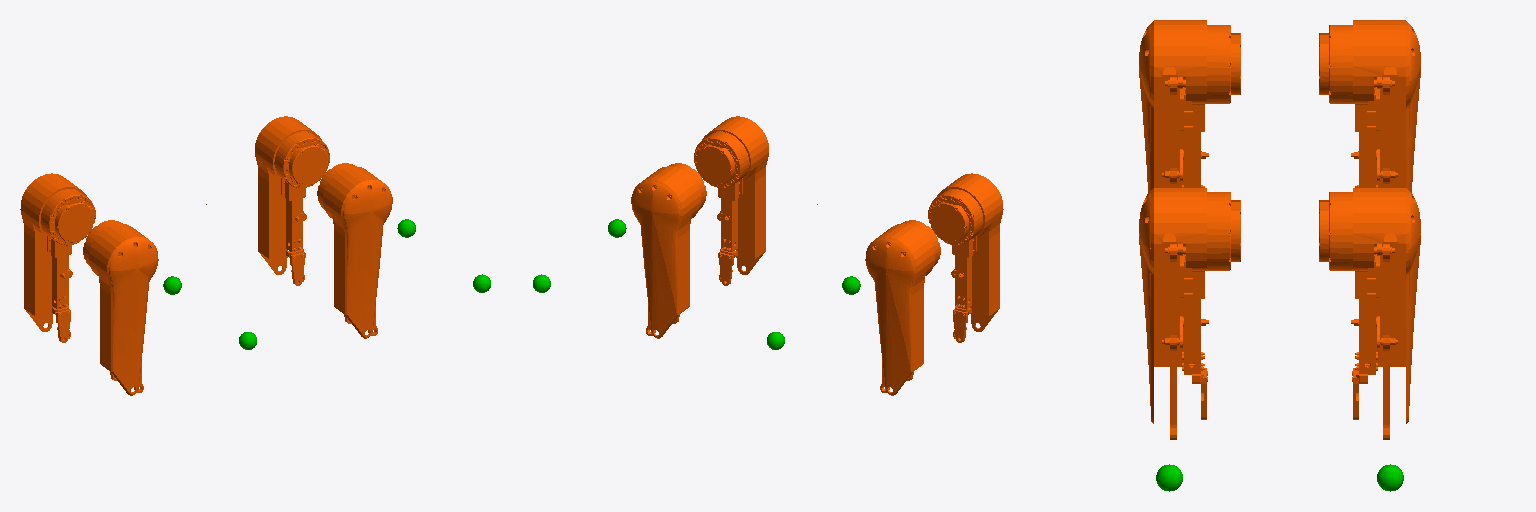
--- Render facts (derived) ---
3 views of the same robot in one strip: view 1: azimuth 30°, elevation 25°; view 2: azimuth 150°, elevation 25°; view 3: azimuth 270°, elevation 25° (orthographic).
Model aliengo_description with 19 links and 18 joints (12 revolute, 6 fixed), rooted at base, posed all joints at 0 but 4 set to mid-range because 0 is outside their limits (FR_calf_joint = -1.71, FL_calf_joint = -1.71, RR_calf_joint = -1.71, RL_calf_joint = -1.71).
Visible links, largest first — view 1: FR_thigh, RR_thigh, FL_thigh, RL_thigh; view 2: FL_thigh, RL_thigh, FR_thigh, RR_thigh; view 3: FR_thigh, FL_thigh, RR_thigh, RL_thigh, FR_foot, FL_foot.
Boxes of the visible links, x1=… form: FR_thigh: x1=317, y1=163, x2=392, y2=338; RR_thigh: x1=83, y1=220, x2=158, y2=395; FL_thigh: x1=255, y1=116, x2=329, y2=285; RL_thigh: x1=20, y1=173, x2=95, y2=342; FL_thigh: x1=631, y1=163, x2=706, y2=338; RL_thigh: x1=865, y1=220, x2=940, y2=395; FR_thigh: x1=694, y1=116, x2=768, y2=285; RR_thigh: x1=928, y1=173, x2=1003, y2=342; FR_thigh: x1=1139, y1=188, x2=1240, y2=439; FL_thigh: x1=1319, y1=188, x2=1420, y2=439; RR_thigh: x1=1139, y1=20, x2=1240, y2=192; RL_thigh: x1=1319, y1=20, x2=1420, y2=192; FR_foot: x1=1156, y1=464, x2=1182, y2=491; FL_foot: x1=1377, y1=464, x2=1403, y2=491.
Size in the robot's own frame: 0.7967 by 0.343 by 0.3193 metres.
Meshes: 5 distinct files referenced, 4 mesh visuals loaded (2 Collada DAE); not drawn: 9 (reference not matched to a file when rendering).

robot.urdf — aliengo_description:
<?xml version="1.0" encoding="utf-8"?>
<!-- =================================================================================== -->
<!-- |    This document was autogenerated by xacro from robot.xacro                    | -->
<!-- |    EDITING THIS FILE BY HAND IS NOT RECOMMENDED                                 | -->
<!-- =================================================================================== -->
<robot name="aliengo_description">
  <material name="black">
    <color rgba="0.0 0.0 0.0 1.0"/>
  </material>
  <material name="blue">
    <color rgba="0.0 0.0 0.8 1.0"/>
  </material>
  <material name="green">
    <color rgba="0.0 0.8 0.0 1.0"/>
  </material>
  <material name="grey">
    <color rgba="0.2 0.2 0.2 1.0"/>
  </material>
  <material name="silver">
    <color rgba="0.913725490196 0.913725490196 0.847058823529 1.0"/>
  </material>
  <material name="orange">
    <color rgba="1.0 0.423529411765 0.0392156862745 1.0"/>
  </material>
  <material name="brown">
    <color rgba="0.870588235294 0.811764705882 0.764705882353 1.0"/>
  </material>
  <material name="red">
    <color rgba="0.8 0.0 0.0 1.0"/>
  </material>
  <material name="white">
    <color rgba="1.0 1.0 1.0 1.0"/>
  </material>
  <link name="base">
    <visual>
      <origin rpy="0 0 0" xyz="0 0 0"/>
      <geometry>
        <box size="0.001 0.001 0.001"/>
      </geometry>
    </visual>
  </link>
  <joint name="floating_base" type="fixed">
    <origin rpy="0 0 0" xyz="0 0 0"/>
    <parent link="base"/>
    <child link="trunk"/>
  </joint>
  <link name="trunk">
    <visual>
      <origin rpy="0 0 0" xyz="0 0 0"/>
      <geometry>
        <mesh filename="../meshes/trunk.dae" scale="1 1 1"/>
      </geometry>
      <material name="orange"/>
    </visual>
    <collision>
      <origin rpy="0 0 0" xyz="0 0 0"/>
      <geometry>
        <box size="0.647 0.15 0.112"/>
      </geometry>
    </collision>
    <!-- <collision>
            <origin rpy="0 0 0" xyz="0 0 0"/>
            <geometry>
                <mesh filename="../meshes/trunk.dae" scale="1 1 1"/>
            </geometry>
        </collision> -->
    <inertial>
      <origin rpy="0 0 0" xyz="0.008465 0.004045 -0.000763"/>
      <mass value="9.041"/>
      <inertia ixx="0.033260231" ixy="-0.000451628" ixz="0.000487603" iyy="0.16117211" iyz="4.8356e-05" izz="0.17460442"/>
    </inertial>
  </link>
  <joint name="imu_joint" type="fixed">
    <parent link="trunk"/>
    <child link="imu_link"/>
    <origin rpy="0 0 0" xyz="0 0 0"/>
  </joint>
  <link name="imu_link">
    <inertial>
      <mass value="0.001"/>
      <origin rpy="0 0 0" xyz="0 0 0"/>
      <inertia ixx="0.0001" ixy="0" ixz="0" iyy="0.000001" iyz="0" izz="0.0001"/>
    </inertial>
    <visual>
      <origin rpy="0 0 0" xyz="0 0 0"/>
      <geometry>
        <box size="0.001 0.001 0.001"/>
      </geometry>
      <material name="red"/>
    </visual>
    <collision>
      <origin rpy="0 0 0" xyz="0 0 0"/>
      <geometry>
        <box size=".001 .001 .001"/>
      </geometry>
    </collision>
  </link>
  <joint name="FR_hip_joint" type="revolute">
    <origin rpy="0 0 0" xyz="0.2399 -0.051 0"/>
    <parent link="trunk"/>
    <child link="FR_hip"/>
    <axis xyz="1 0 0"/>
    <dynamics damping="0" friction="0"/>
    <limit effort="44" lower="-1.2217304764" upper="1.2217304764" velocity="20"/>
  </joint>
  <link name="FR_hip">
    <visual>
      <origin rpy="3.14159265359 0 0" xyz="0 0 0"/>
      <geometry>
        <mesh filename="../meshes/hip.dae" scale="1 1 1"/>
      </geometry>
      <material name="orange"/>
    </visual>
    <collision>
      <origin rpy="1.57079632679 0 0" xyz="0 -0.083 0"/>
      <geometry>
        <cylinder length="0.0418" radius="0.046"/>
      </geometry>
    </collision>
    <inertial>
      <origin rpy="0 0 0" xyz="-0.022191 -0.015144 -1.5e-05"/>
      <mass value="1.993"/>
      <inertia ixx="0.002903894" ixy="7.185e-05" ixz="-1.262e-06" iyy="0.004907517" iyz="1.75e-06" izz="0.005586944"/>
    </inertial>
  </link>
  <!-- <joint name="${name}_hip_fixed" type="fixed">
            <origin rpy="0 0 0" xyz="0 ${(thigh_shoulder_length/2.0+hip_offset)*mirror} 0"/>
            <parent link="${name}_hip"/>
            <child link="${name}_thigh_shoulder"/>
        </joint> -->
  <!-- this link is only for collision -->
  <!-- <link name="${name}_thigh_shoulder">
            <collision>
                <origin rpy="${PI/2.0} 0 0" xyz="0 0 0"/>
                <geometry>
                    <cylinder length="${thigh_shoulder_length}" radius="${thigh_shoulder_radius}"/>
                </geometry>
            </collision>
        </link> -->
  <joint name="FR_thigh_joint" type="revolute">
    <origin rpy="0 0 0" xyz="0 -0.083 0"/>
    <parent link="FR_hip"/>
    <child link="FR_thigh"/>
    <axis xyz="0 1 0"/>
    <dynamics damping="0" friction="0"/>
    <limit effort="44" lower="-1.0471975512" upper="4.18879020479" velocity="20"/>
  </joint>
  <link name="FR_thigh">
    <visual>
      <origin rpy="0 0 0" xyz="0 0 0"/>
      <geometry>
        <mesh filename="../meshes/thigh_mirror.dae" scale="1 1 1"/>
      </geometry>
      <material name="orange"/>
    </visual>
    <collision>
      <origin rpy="0 1.57079632679 0" xyz="0 0 -0.125"/>
      <geometry>
        <box size="0.25 0.0374 0.043"/>
      </geometry>
    </collision>
    <inertial>
      <origin rpy="0 0 0" xyz="-0.005607 0.003877 -0.048199"/>
      <mass value="0.639"/>
      <inertia ixx="0.005666803" ixy="-3.597e-06" ixz="0.000491446" iyy="0.005847229" iyz="-1.0086e-05" izz="0.000369811"/>
    </inertial>
  </link>
  <joint name="FR_calf_joint" type="revolute">
    <origin rpy="0 0 0" xyz="0 0 -0.25"/>
    <parent link="FR_thigh"/>
    <child link="FR_calf"/>
    <axis xyz="0 1 0"/>
    <dynamics damping="0" friction="0"/>
    <limit effort="55" lower="-2.77507351067" upper="-0.645771823238" velocity="16"/>
  </joint>
  <link name="FR_calf">
    <visual>
      <origin rpy="0 0 0" xyz="0 0 0"/>
      <geometry>
        <mesh filename="../meshes/calf.dae" scale="1 1 1"/>
      </geometry>
      <material name="orange"/>
    </visual>
    <collision>
      <origin rpy="0 1.57079632679 0" xyz="0 0 -0.125"/>
      <geometry>
        <box size="0.25 0.0208 0.016"/>
      </geometry>
    </collision>
    <inertial>
      <origin rpy="0 0 0" xyz="0.002781 6.3e-05 -0.142518"/>
      <mass value="0.207"/>
      <inertia ixx="0.006341369" ixy="-3e-09" ixz="-8.7951e-05" iyy="0.006355157" iyz="-1.336e-06" izz="3.9188e-05"/>
    </inertial>
  </link>
  <joint name="FR_foot_fixed" type="fixed" dont_collapse="true">
    <origin rpy="0 0 0" xyz="0 0 -0.25"/>
    <parent link="FR_calf"/>
    <child link="FR_foot"/>
  </joint>
  <link name="FR_foot">
    <visual>
      <origin rpy="0 0 0" xyz="0 0 0"/>
      <geometry>
        <sphere radius="0.0165"/>
      </geometry>
      <material name="green"/>
    </visual>
    <collision>
      <origin rpy="0 0 0" xyz="0 0 0"/>
      <geometry>
        <sphere radius="0.0265"/>
      </geometry>
    </collision>
    <inertial>
      <mass value="0.06"/>
      <inertia ixx="1.6854e-05" ixy="0.0" ixz="0.0" iyy="1.6854e-05" iyz="0.0" izz="1.6854e-05"/>
    </inertial>
  </link>
  <transmission name="FR_hip_tran">
    <type>transmission_interface/SimpleTransmission</type>
    <joint name="FR_hip_joint">
      <hardwareInterface>hardware_interface/EffortJointInterface</hardwareInterface>
    </joint>
    <actuator name="FR_hip_motor">
      <hardwareInterface>hardware_interface/EffortJointInterface</hardwareInterface>
      <mechanicalReduction>1</mechanicalReduction>
    </actuator>
  </transmission>
  <transmission name="FR_thigh_tran">
    <type>transmission_interface/SimpleTransmission</type>
    <joint name="FR_thigh_joint">
      <hardwareInterface>hardware_interface/EffortJointInterface</hardwareInterface>
    </joint>
    <actuator name="FR_thigh_motor">
      <hardwareInterface>hardware_interface/EffortJointInterface</hardwareInterface>
      <mechanicalReduction>1</mechanicalReduction>
    </actuator>
  </transmission>
  <transmission name="FR_calf_tran">
    <type>transmission_interface/SimpleTransmission</type>
    <joint name="FR_calf_joint">
      <hardwareInterface>hardware_interface/EffortJointInterface</hardwareInterface>
    </joint>
    <actuator name="FR_calf_motor">
      <hardwareInterface>hardware_interface/EffortJointInterface</hardwareInterface>
      <mechanicalReduction>1</mechanicalReduction>
    </actuator>
  </transmission>
  <joint name="FL_hip_joint" type="revolute">
    <origin rpy="0 0 0" xyz="0.2399 0.051 0"/>
    <parent link="trunk"/>
    <child link="FL_hip"/>
    <axis xyz="1 0 0"/>
    <dynamics damping="0" friction="0"/>
    <limit effort="44" lower="-1.2217304764" upper="1.2217304764" velocity="20"/>
  </joint>
  <link name="FL_hip">
    <visual>
      <origin rpy="0 0 0" xyz="0 0 0"/>
      <geometry>
        <mesh filename="../meshes/hip.dae" scale="1 1 1"/>
      </geometry>
      <material name="orange"/>
    </visual>
    <collision>
      <origin rpy="1.57079632679 0 0" xyz="0 0.083 0"/>
      <geometry>
        <cylinder length="0.0418" radius="0.046"/>
      </geometry>
    </collision>
    <inertial>
      <origin rpy="0 0 0" xyz="-0.022191 0.015144 -1.5e-05"/>
      <mass value="1.993"/>
      <inertia ixx="0.002903894" ixy="-7.185e-05" ixz="-1.262e-06" iyy="0.004907517" iyz="-1.75e-06" izz="0.005586944"/>
    </inertial>
  </link>
  <!-- <joint name="${name}_hip_fixed" type="fixed">
            <origin rpy="0 0 0" xyz="0 ${(thigh_shoulder_length/2.0+hip_offset)*mirror} 0"/>
            <parent link="${name}_hip"/>
            <child link="${name}_thigh_shoulder"/>
        </joint> -->
  <!-- this link is only for collision -->
  <!-- <link name="${name}_thigh_shoulder">
            <collision>
                <origin rpy="${PI/2.0} 0 0" xyz="0 0 0"/>
                <geometry>
                    <cylinder length="${thigh_shoulder_length}" radius="${thigh_shoulder_radius}"/>
                </geometry>
            </collision>
        </link> -->
  <joint name="FL_thigh_joint" type="revolute">
    <origin rpy="0 0 0" xyz="0 0.083 0"/>
    <parent link="FL_hip"/>
    <child link="FL_thigh"/>
    <axis xyz="0 1 0"/>
    <dynamics damping="0" friction="0"/>
    <limit effort="44" lower="-1.0471975512" upper="4.18879020479" velocity="20"/>
  </joint>
  <link name="FL_thigh">
    <visual>
      <origin rpy="0 0 0" xyz="0 0 0"/>
      <geometry>
        <mesh filename="../meshes/thigh.dae" scale="1 1 1"/>
      </geometry>
      <material name="orange"/>
    </visual>
    <collision>
      <origin rpy="0 1.57079632679 0" xyz="0 0 -0.125"/>
      <geometry>
        <box size="0.25 0.0374 0.043"/>
      </geometry>
    </collision>
    <inertial>
      <origin rpy="0 0 0" xyz="-0.005607 -0.003877 -0.048199"/>
      <mass value="0.639"/>
      <inertia ixx="0.005666803" ixy="3.597e-06" ixz="0.000491446" iyy="0.005847229" iyz="1.0086e-05" izz="0.000369811"/>
    </inertial>
  </link>
  <joint name="FL_calf_joint" type="revolute">
    <origin rpy="0 0 0" xyz="0 0 -0.25"/>
    <parent link="FL_thigh"/>
    <child link="FL_calf"/>
    <axis xyz="0 1 0"/>
    <dynamics damping="0" friction="0"/>
    <limit effort="55" lower="-2.77507351067" upper="-0.645771823238" velocity="16"/>
  </joint>
  <link name="FL_calf">
    <visual>
      <origin rpy="0 0 0" xyz="0 0 0"/>
      <geometry>
        <mesh filename="../meshes/calf.dae" scale="1 1 1"/>
      </geometry>
      <material name="orange"/>
    </visual>
    <collision>
      <origin rpy="0 1.57079632679 0" xyz="0 0 -0.125"/>
      <geometry>
        <box size="0.25 0.0208 0.016"/>
      </geometry>
    </collision>
    <inertial>
      <origin rpy="0 0 0" xyz="0.002781 6.3e-05 -0.142518"/>
      <mass value="0.207"/>
      <inertia ixx="0.006341369" ixy="-3e-09" ixz="-8.7951e-05" iyy="0.006355157" iyz="-1.336e-06" izz="3.9188e-05"/>
    </inertial>
  </link>
  <joint name="FL_foot_fixed" type="fixed" dont_collapse="true">
    <origin rpy="0 0 0" xyz="0 0 -0.25"/>
    <parent link="FL_calf"/>
    <child link="FL_foot"/>
  </joint>
  <link name="FL_foot">
    <visual>
      <origin rpy="0 0 0" xyz="0 0 0"/>
      <geometry>
        <sphere radius="0.0165"/>
      </geometry>
      <material name="green"/>
    </visual>
    <collision>
      <origin rpy="0 0 0" xyz="0 0 0"/>
      <geometry>
        <sphere radius="0.0265"/>
      </geometry>
    </collision>
    <inertial>
      <mass value="0.06"/>
      <inertia ixx="1.6854e-05" ixy="0.0" ixz="0.0" iyy="1.6854e-05" iyz="0.0" izz="1.6854e-05"/>
    </inertial>
  </link>
  <transmission name="FL_hip_tran">
    <type>transmission_interface/SimpleTransmission</type>
    <joint name="FL_hip_joint">
      <hardwareInterface>hardware_interface/EffortJointInterface</hardwareInterface>
    </joint>
    <actuator name="FL_hip_motor">
      <hardwareInterface>hardware_interface/EffortJointInterface</hardwareInterface>
      <mechanicalReduction>1</mechanicalReduction>
    </actuator>
  </transmission>
  <transmission name="FL_thigh_tran">
    <type>transmission_interface/SimpleTransmission</type>
    <joint name="FL_thigh_joint">
      <hardwareInterface>hardware_interface/EffortJointInterface</hardwareInterface>
    </joint>
    <actuator name="FL_thigh_motor">
      <hardwareInterface>hardware_interface/EffortJointInterface</hardwareInterface>
      <mechanicalReduction>1</mechanicalReduction>
    </actuator>
  </transmission>
  <transmission name="FL_calf_tran">
    <type>transmission_interface/SimpleTransmission</type>
    <joint name="FL_calf_joint">
      <hardwareInterface>hardware_interface/EffortJointInterface</hardwareInterface>
    </joint>
    <actuator name="FL_calf_motor">
      <hardwareInterface>hardware_interface/EffortJointInterface</hardwareInterface>
      <mechanicalReduction>1</mechanicalReduction>
    </actuator>
  </transmission>
  <joint name="RR_hip_joint" type="revolute">
    <origin rpy="0 0 0" xyz="-0.2399 -0.051 0"/>
    <parent link="trunk"/>
    <child link="RR_hip"/>
    <axis xyz="1 0 0"/>
    <dynamics damping="0" friction="0"/>
    <limit effort="44" lower="-1.2217304764" upper="1.2217304764" velocity="20"/>
  </joint>
  <link name="RR_hip">
    <visual>
      <origin rpy="3.14159265359 3.14159265359 0" xyz="0 0 0"/>
      <geometry>
        <mesh filename="../meshes/hip.dae" scale="1 1 1"/>
      </geometry>
      <material name="orange"/>
    </visual>
    <collision>
      <origin rpy="1.57079632679 0 0" xyz="0 -0.083 0"/>
      <geometry>
        <cylinder length="0.0418" radius="0.046"/>
      </geometry>
    </collision>
    <inertial>
      <origin rpy="0 0 0" xyz="0.022191 -0.015144 -1.5e-05"/>
      <mass value="1.993"/>
      <inertia ixx="0.002903894" ixy="-7.185e-05" ixz="1.262e-06" iyy="0.004907517" iyz="1.75e-06" izz="0.005586944"/>
    </inertial>
  </link>
  <!-- <joint name="${name}_hip_fixed" type="fixed">
            <origin rpy="0 0 0" xyz="0 ${(thigh_shoulder_length/2.0+hip_offset)*mirror} 0"/>
            <parent link="${name}_hip"/>
            <child link="${name}_thigh_shoulder"/>
        </joint> -->
  <!-- this link is only for collision -->
  <!-- <link name="${name}_thigh_shoulder">
            <collision>
                <origin rpy="${PI/2.0} 0 0" xyz="0 0 0"/>
                <geometry>
                    <cylinder length="${thigh_shoulder_length}" radius="${thigh_shoulder_radius}"/>
                </geometry>
            </collision>
        </link> -->
  <joint name="RR_thigh_joint" type="revolute">
    <origin rpy="0 0 0" xyz="0 -0.083 0"/>
    <parent link="RR_hip"/>
    <child link="RR_thigh"/>
    <axis xyz="0 1 0"/>
    <dynamics damping="0" friction="0"/>
    <limit effort="44" lower="-1.0471975512" upper="4.18879020479" velocity="20"/>
  </joint>
  <link name="RR_thigh">
    <visual>
      <origin rpy="0 0 0" xyz="0 0 0"/>
      <geometry>
        <mesh filename="../meshes/thigh_mirror.dae" scale="1 1 1"/>
      </geometry>
      <material name="orange"/>
    </visual>
    <collision>
      <origin rpy="0 1.57079632679 0" xyz="0 0 -0.125"/>
      <geometry>
        <box size="0.25 0.0374 0.043"/>
      </geometry>
    </collision>
    <inertial>
      <origin rpy="0 0 0" xyz="-0.005607 0.003877 -0.048199"/>
      <mass value="0.639"/>
      <inertia ixx="0.005666803" ixy="-3.597e-06" ixz="0.000491446" iyy="0.005847229" iyz="-1.0086e-05" izz="0.000369811"/>
    </inertial>
  </link>
  <joint name="RR_calf_joint" type="revolute">
    <origin rpy="0 0 0" xyz="0 0 -0.25"/>
    <parent link="RR_thigh"/>
    <child link="RR_calf"/>
    <axis xyz="0 1 0"/>
    <dynamics damping="0" friction="0"/>
    <limit effort="55" lower="-2.77507351067" upper="-0.645771823238" velocity="16"/>
  </joint>
  <link name="RR_calf">
    <visual>
      <origin rpy="0 0 0" xyz="0 0 0"/>
      <geometry>
        <mesh filename="../meshes/calf.dae" scale="1 1 1"/>
      </geometry>
      <material name="orange"/>
    </visual>
    <collision>
      <origin rpy="0 1.57079632679 0" xyz="0 0 -0.125"/>
      <geometry>
        <box size="0.25 0.0208 0.016"/>
      </geometry>
    </collision>
    <inertial>
      <origin rpy="0 0 0" xyz="0.002781 6.3e-05 -0.142518"/>
      <mass value="0.207"/>
      <inertia ixx="0.006341369" ixy="-3e-09" ixz="-8.7951e-05" iyy="0.006355157" iyz="-1.336e-06" izz="3.9188e-05"/>
    </inertial>
  </link>
  <joint name="RR_foot_fixed" type="fixed" dont_collapse="true">
    <origin rpy="0 0 0" xyz="0 0 -0.25"/>
    <parent link="RR_calf"/>
    <child link="RR_foot"/>
  </joint>
  <link name="RR_foot">
    <visual>
      <origin rpy="0 0 0" xyz="0 0 0"/>
      <geometry>
        <sphere radius="0.0165"/>
      </geometry>
      <material name="green"/>
    </visual>
    <collision>
      <origin rpy="0 0 0" xyz="0 0 0"/>
      <geometry>
        <sphere radius="0.0265"/>
      </geometry>
    </collision>
    <inertial>
      <mass value="0.06"/>
      <inertia ixx="1.6854e-05" ixy="0.0" ixz="0.0" iyy="1.6854e-05" iyz="0.0" izz="1.6854e-05"/>
    </inertial>
  </link>
  <transmission name="RR_hip_tran">
    <type>transmission_interface/SimpleTransmission</type>
    <joint name="RR_hip_joint">
      <hardwareInterface>hardware_interface/EffortJointInterface</hardwareInterface>
    </joint>
    <actuator name="RR_hip_motor">
      <hardwareInterface>hardware_interface/EffortJointInterface</hardwareInterface>
      <mechanicalReduction>1</mechanicalReduction>
    </actuator>
  </transmission>
  <transmission name="RR_thigh_tran">
    <type>transmission_interface/SimpleTransmission</type>
    <joint name="RR_thigh_joint">
      <hardwareInterface>hardware_interface/EffortJointInterface</hardwareInterface>
    </joint>
    <actuator name="RR_thigh_motor">
      <hardwareInterface>hardware_interface/EffortJointInterface</hardwareInterface>
      <mechanicalReduction>1</mechanicalReduction>
    </actuator>
  </transmission>
  <transmission name="RR_calf_tran">
    <type>transmission_interface/SimpleTransmission</type>
    <joint name="RR_calf_joint">
      <hardwareInterface>hardware_interface/EffortJointInterface</hardwareInterface>
    </joint>
    <actuator name="RR_calf_motor">
      <hardwareInterface>hardware_interface/EffortJointInterface</hardwareInterface>
      <mechanicalReduction>1</mechanicalReduction>
    </actuator>
  </transmission>
  <joint name="RL_hip_joint" type="revolute">
    <origin rpy="0 0 0" xyz="-0.2399 0.051 0"/>
    <parent link="trunk"/>
    <child link="RL_hip"/>
    <axis xyz="1 0 0"/>
    <dynamics damping="0" friction="0"/>
    <limit effort="44" lower="-1.2217304764" upper="1.2217304764" velocity="20"/>
  </joint>
  <link name="RL_hip">
    <visual>
      <origin rpy="0 3.14159265359 0" xyz="0 0 0"/>
      <geometry>
        <mesh filename="../meshes/hip.dae" scale="1 1 1"/>
      </geometry>
      <material name="orange"/>
    </visual>
    <collision>
      <origin rpy="1.57079632679 0 0" xyz="0 0.083 0"/>
      <geometry>
        <cylinder length="0.0418" radius="0.046"/>
      </geometry>
    </collision>
    <inertial>
      <origin rpy="0 0 0" xyz="0.022191 0.015144 -1.5e-05"/>
      <mass value="1.993"/>
      <inertia ixx="0.002903894" ixy="7.185e-05" ixz="1.262e-06" iyy="0.004907517" iyz="-1.75e-06" izz="0.005586944"/>
    </inertial>
  </link>
  <!-- <joint name="${name}_hip_fixed" type="fixed">
            <origin rpy="0 0 0" xyz="0 ${(thigh_shoulder_length/2.0+hip_offset)*mirror} 0"/>
            <parent link="${name}_hip"/>
            <child link="${name}_thigh_shoulder"/>
        </joint> -->
  <!-- this link is only for collision -->
  <!-- <link name="${name}_thigh_shoulder">
            <collision>
                <origin rpy="${PI/2.0} 0 0" xyz="0 0 0"/>
                <geometry>
                    <cylinder length="${thigh_shoulder_length}" radius="${thigh_shoulder_radius}"/>
                </geometry>
            </collision>
        </link> -->
  <joint name="RL_thigh_joint" type="revolute">
    <origin rpy="0 0 0" xyz="0 0.083 0"/>
    <parent link="RL_hip"/>
    <child link="RL_thigh"/>
    <axis xyz="0 1 0"/>
    <dynamics damping="0" friction="0"/>
    <limit effort="44" lower="-1.0471975512" upper="4.18879020479" velocity="20"/>
  </joint>
  <link name="RL_thigh">
    <visual>
      <origin rpy="0 0 0" xyz="0 0 0"/>
      <geometry>
        <mesh filename="../meshes/thigh.dae" scale="1 1 1"/>
      </geometry>
      <material name="orange"/>
    </visual>
    <collision>
      <origin rpy="0 1.57079632679 0" xyz="0 0 -0.125"/>
      <geometry>
        <box size="0.25 0.0374 0.043"/>
      </geometry>
    </collision>
    <inertial>
      <origin rpy="0 0 0" xyz="-0.005607 -0.003877 -0.048199"/>
      <mass value="0.639"/>
      <inertia ixx="0.005666803" ixy="3.597e-06" ixz="0.000491446" iyy="0.005847229" iyz="1.0086e-05" izz="0.000369811"/>
    </inertial>
  </link>
  <joint name="RL_calf_joint" type="revolute">
    <origin rpy="0 0 0" xyz="0 0 -0.25"/>
    <parent link="RL_thigh"/>
    <child link="RL_calf"/>
    <axis xyz="0 1 0"/>
    <dynamics damping="0" friction="0"/>
    <limit effort="55" lower="-2.77507351067" upper="-0.645771823238" velocity="16"/>
  </joint>
  <link name="RL_calf">
    <visual>
      <origin rpy="0 0 0" xyz="0 0 0"/>
      <geometry>
        <mesh filename="../meshes/calf.dae" scale="1 1 1"/>
      </geometry>
      <material name="orange"/>
    </visual>
    <collision>
      <origin rpy="0 1.57079632679 0" xyz="0 0 -0.125"/>
      <geometry>
        <box size="0.25 0.0208 0.016"/>
      </geometry>
    </collision>
    <inertial>
      <origin rpy="0 0 0" xyz="0.002781 6.3e-05 -0.142518"/>
      <mass value="0.207"/>
      <inertia ixx="0.006341369" ixy="-3e-09" ixz="-8.7951e-05" iyy="0.006355157" iyz="-1.336e-06" izz="3.9188e-05"/>
    </inertial>
  </link>
  <joint name="RL_foot_fixed" type="fixed" dont_collapse="true">
    <origin rpy="0 0 0" xyz="0 0 -0.25"/>
    <parent link="RL_calf"/>
    <child link="RL_foot"/>
  </joint>
  <link name="RL_foot">
    <visual>
      <origin rpy="0 0 0" xyz="0 0 0"/>
      <geometry>
        <sphere radius="0.0165"/>
      </geometry>
      <material name="green"/>
    </visual>
    <collision>
      <origin rpy="0 0 0" xyz="0 0 0"/>
      <geometry>
        <sphere radius="0.0265"/>
      </geometry>
    </collision>
    <inertial>
      <mass value="0.06"/>
      <inertia ixx="1.6854e-05" ixy="0.0" ixz="0.0" iyy="1.6854e-05" iyz="0.0" izz="1.6854e-05"/>
    </inertial>
  </link>
  <transmission name="RL_hip_tran">
    <type>transmission_interface/SimpleTransmission</type>
    <joint name="RL_hip_joint">
      <hardwareInterface>hardware_interface/EffortJointInterface</hardwareInterface>
    </joint>
    <actuator name="RL_hip_motor">
      <hardwareInterface>hardware_interface/EffortJointInterface</hardwareInterface>
      <mechanicalReduction>1</mechanicalReduction>
    </actuator>
  </transmission>
  <transmission name="RL_thigh_tran">
    <type>transmission_interface/SimpleTransmission</type>
    <joint name="RL_thigh_joint">
      <hardwareInterface>hardware_interface/EffortJointInterface</hardwareInterface>
    </joint>
    <actuator name="RL_thigh_motor">
      <hardwareInterface>hardware_interface/EffortJointInterface</hardwareInterface>
      <mechanicalReduction>1</mechanicalReduction>
    </actuator>
  </transmission>
  <transmission name="RL_calf_tran">
    <type>transmission_interface/SimpleTransmission</type>
    <joint name="RL_calf_joint">
      <hardwareInterface>hardware_interface/EffortJointInterface</hardwareInterface>
    </joint>
    <actuator name="RL_calf_motor">
      <hardwareInterface>hardware_interface/EffortJointInterface</hardwareInterface>
      <mechanicalReduction>1</mechanicalReduction>
    </actuator>
  </transmission>
  <!-- <xacro:stairs stairs="15" xpos="0" ypos="2.0" zpos="0" /> -->
</robot>
